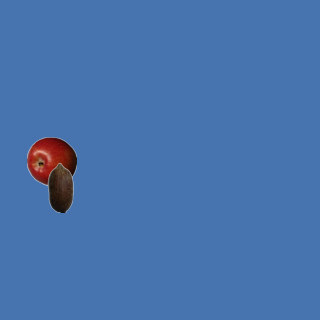Apple Braeburn: (26, 136, 76, 186)
Nut Pecan: (35, 162, 85, 212)
